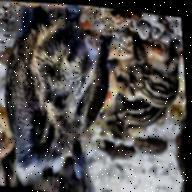boar: (0, 0, 123, 187), (99, 28, 187, 115), (102, 95, 165, 150)
